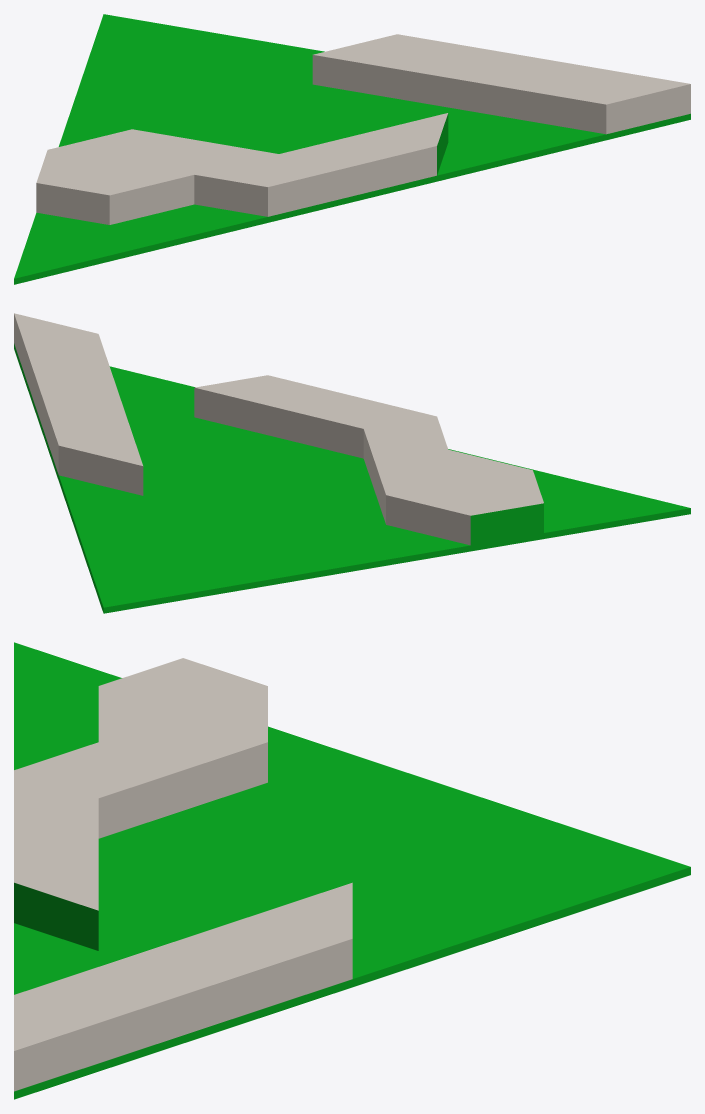
Rendered from woolport.fbx.
3 views of the same model, one above another, from view 1: azimuth 30°, elevation 25°; view 2: azimuth 150°, elevation 25°; view 3: azimuth 270°, elevation 25° (orthographic). The views are drawn at different scales.
Visible parts, largest first — view 1: Cylinder; view 2: Cylinder; view 3: Cylinder.
Boxes of the visible parts, x1,y1,x2,y2 form: Cylinder: [14, 14, 690, 284]; Cylinder: [14, 313, 690, 613]; Cylinder: [14, 642, 690, 1099].
Bounding box in the file's own units: 1.18 × 0.0594 × 0.75.
